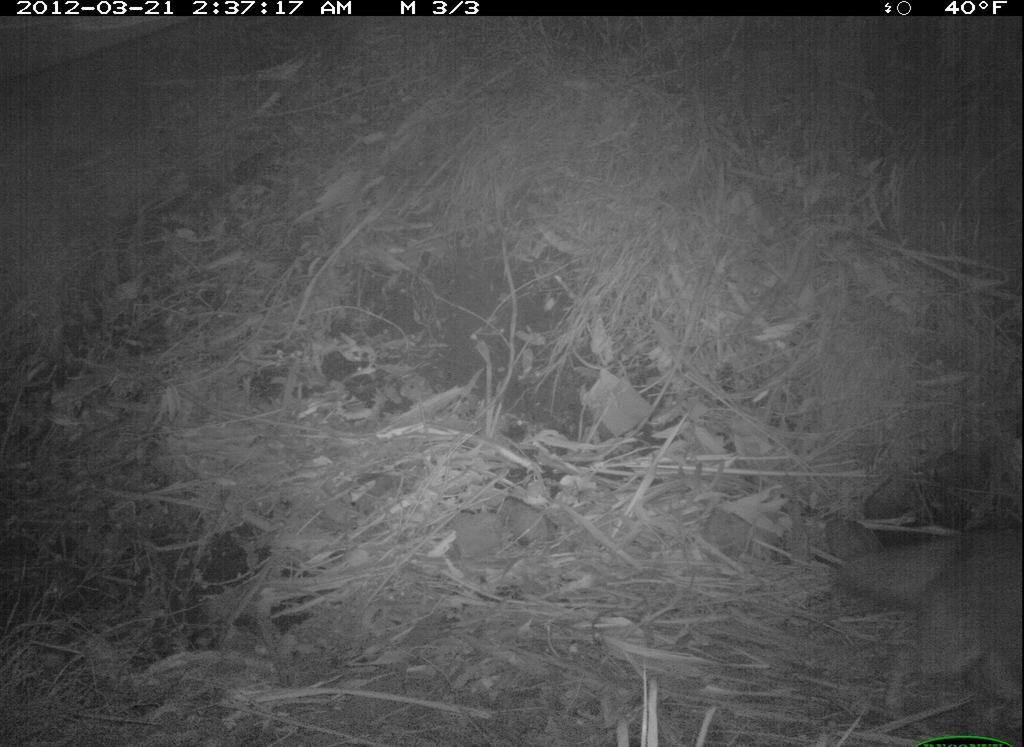coyote: (833, 520, 1022, 734)
